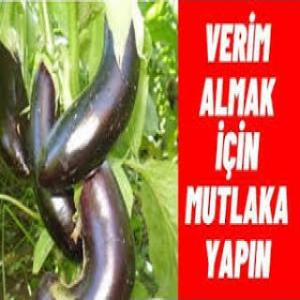eggplant: (46, 3, 146, 189), (30, 54, 82, 256), (68, 165, 134, 295)
